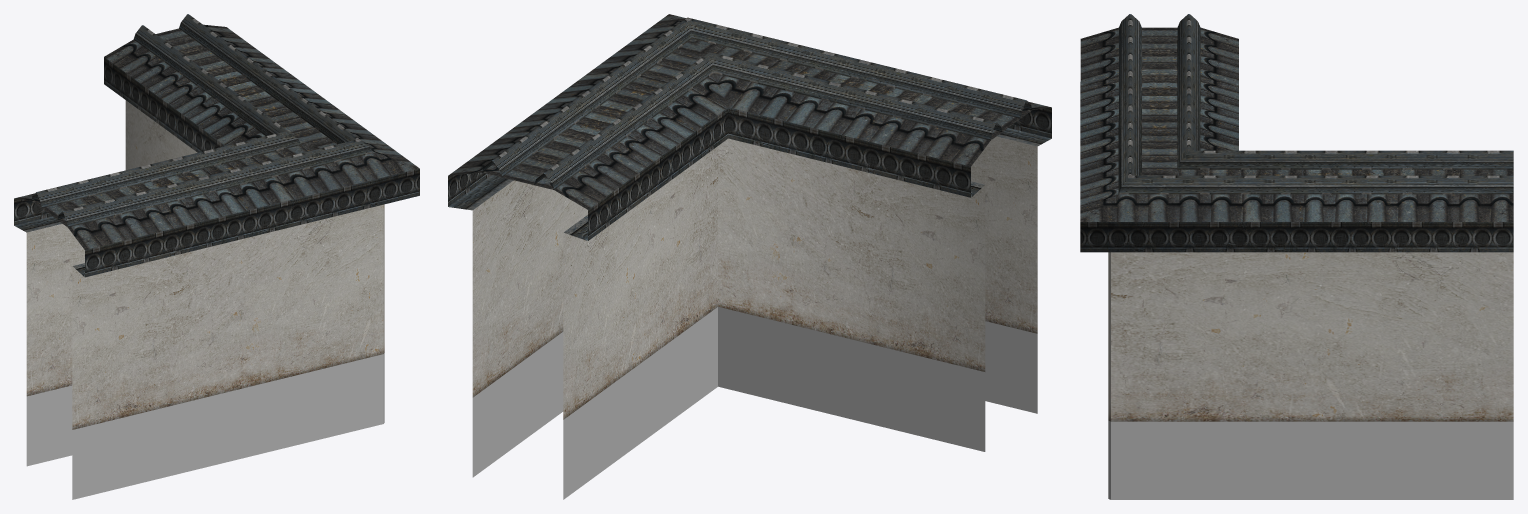
The model's file is wall_corner_high_008.fbx.
The picture shows the model from 3 angles, left to right: view 1: azimuth 30°, elevation 25°; view 2: azimuth 150°, elevation 25°; view 3: azimuth 270°, elevation 25°; orthographic projection. The views are drawn at different scales.
Visible parts, largest first — view 1: wall_corner_high_008; view 2: wall_corner_high_008; view 3: wall_corner_high_008.
Boxes of the visible parts, left/top/right/bottom form: wall_corner_high_008: left=14, top=14, right=419, bottom=499; wall_corner_high_008: left=448, top=14, right=1051, bottom=499; wall_corner_high_008: left=1080, top=14, right=1513, bottom=499.
Size of the model in its own units: 168 by 135 by 168.
